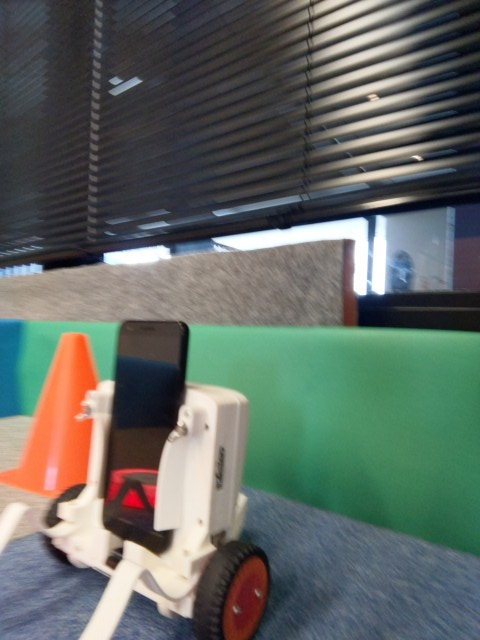f: (1, 311, 276, 640)
